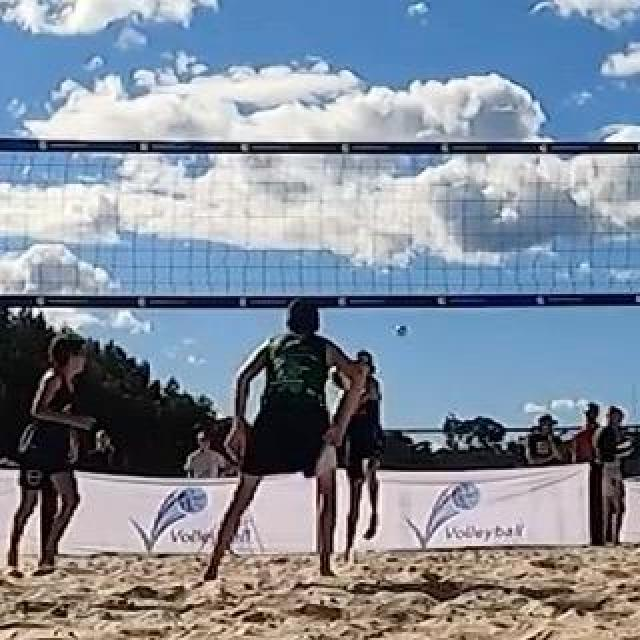volleyball: (330, 358, 364, 392)
